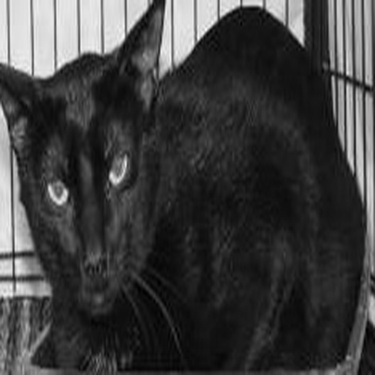cat: (1, 2, 350, 360)
